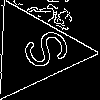S: (9, 26, 74, 78)
